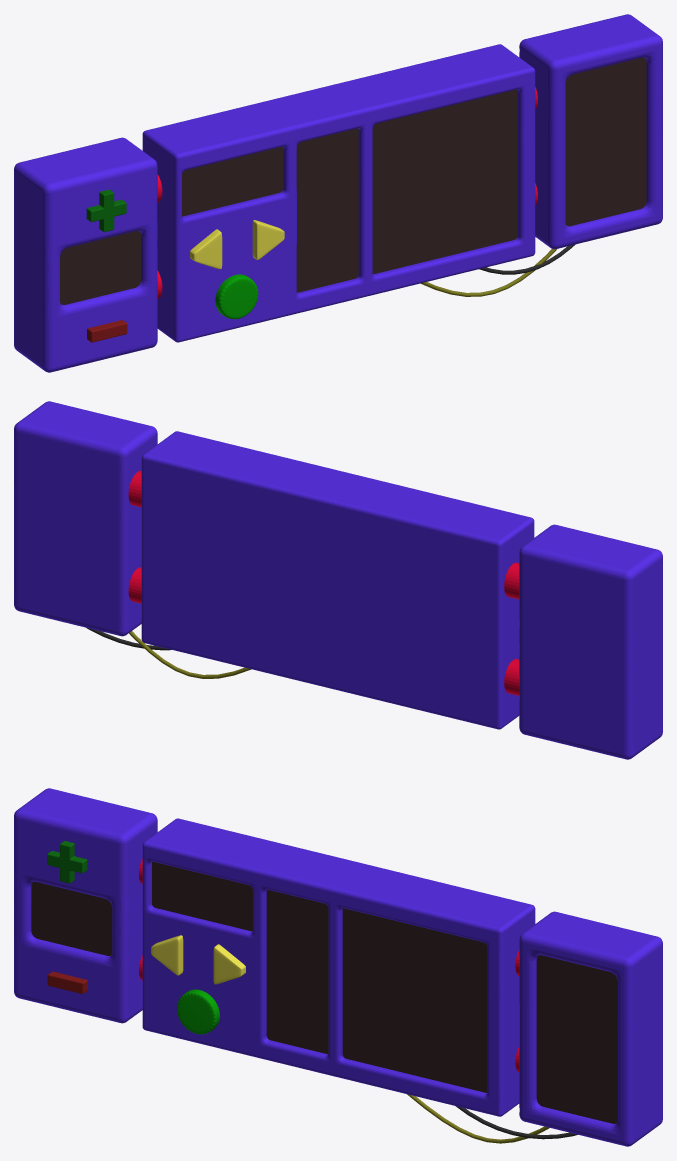
Rendered from crafting panel.fbx.
3 renders of one model, top to bottom at view 1: azimuth 30°, elevation 25°; view 2: azimuth 150°, elevation 25°; view 3: azimuth 330°, elevation 25°, orthographic.
Visible parts, largest first — view 1: main panel, screen, qty panel, inventory panel, inventory screen, qty screen, execute, increase, next, prev, wire 2, decrease; view 2: main panel, qty panel, inventory panel, wire 2; view 3: main panel, screen, qty panel, inventory panel, inventory screen, qty screen, execute, increase, prev, next, wire 2, decrease (+1 smaller).
Boxes of the visible parts, left/top/right/bottom form: main panel: left=142, top=44, right=535, bottom=342; screen: left=182, top=89, right=517, bottom=292; qty panel: left=14, top=137, right=157, bottom=372; inventory panel: left=519, top=14, right=662, bottom=249; inventory screen: left=565, top=57, right=646, bottom=226; qty screen: left=60, top=230, right=141, bottom=304; execute: left=215, top=274, right=258, bottom=319; increase: left=86, top=189, right=126, bottom=232; next: left=252, top=220, right=284, bottom=259; prev: left=190, top=229, right=222, bottom=269; wire 2: left=420, top=249, right=556, bottom=296; decrease: left=87, top=320, right=127, bottom=342; main panel: left=141, top=431, right=534, bottom=729; qty panel: left=519, top=524, right=662, bottom=759; inventory panel: left=14, top=401, right=157, bottom=636; wire 2: left=129, top=631, right=251, bottom=678; main panel: left=142, top=818, right=535, bottom=1116; screen: left=152, top=861, right=487, bottom=1092; qty panel: left=14, top=788, right=157, bottom=1023; inventory panel: left=519, top=911, right=662, bottom=1146; inventory screen: left=536, top=955, right=617, bottom=1123; qty screen: left=31, top=881, right=112, bottom=955; execute: left=177, top=989, right=219, bottom=1034; increase: left=47, top=841, right=87, bottom=883; prev: left=151, top=935, right=183, bottom=975; next: left=213, top=944, right=245, bottom=984; wire 2: left=407, top=1094, right=549, bottom=1143; decrease: left=47, top=971, right=87, bottom=993.
Size of the model in its own units: 344 by 122 by 38.26.
